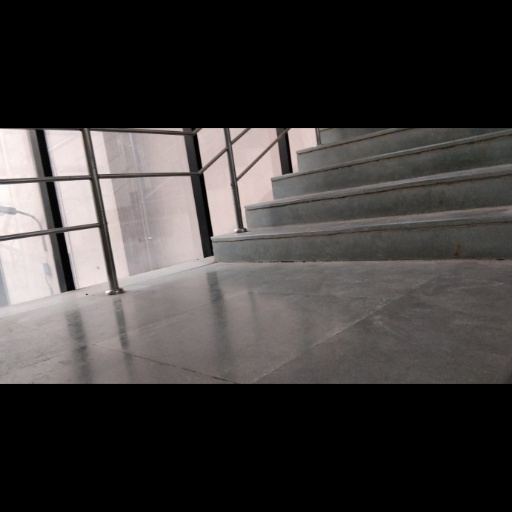Stairs: (213, 129, 512, 260)
